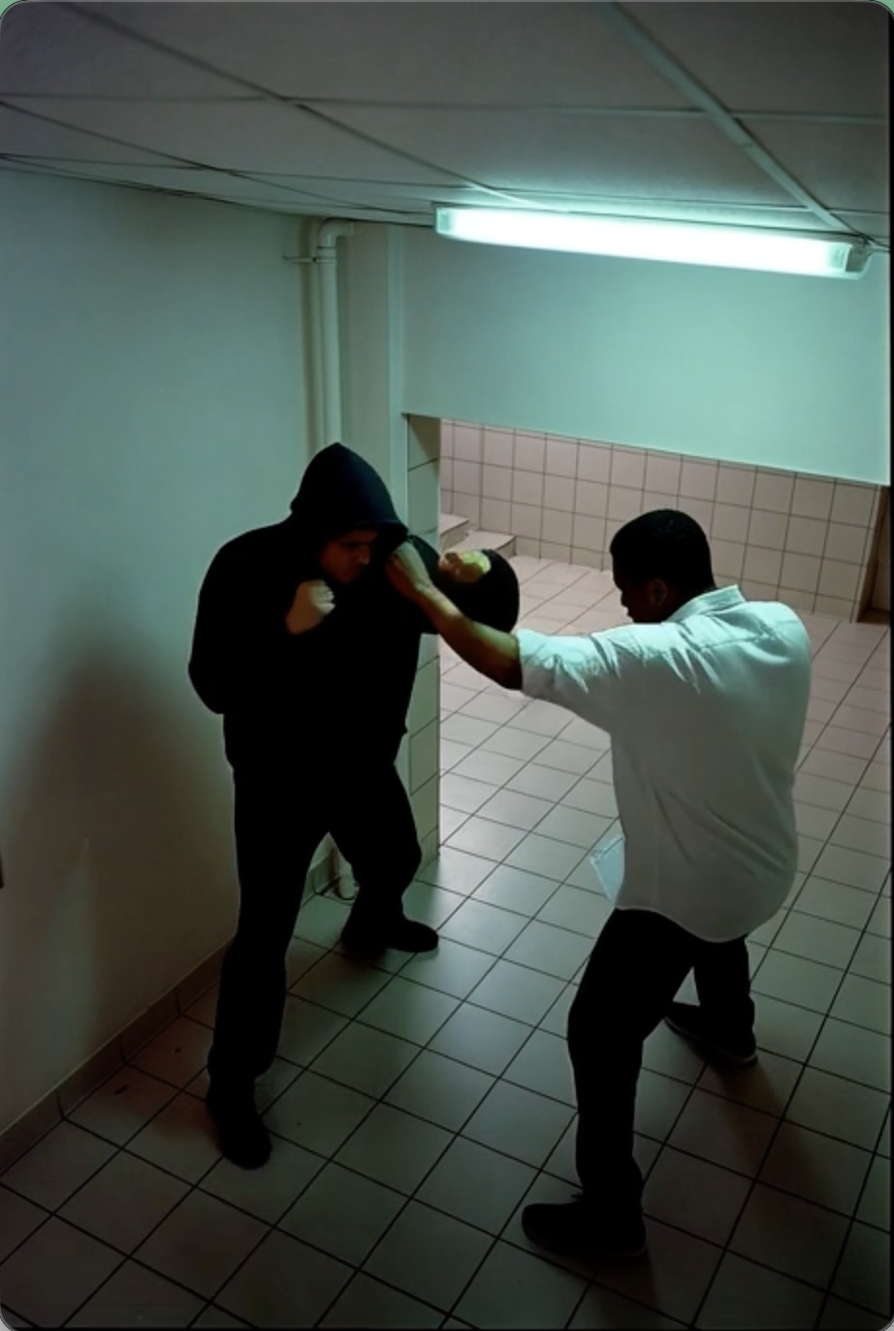Assault: (187, 441, 483, 1172)
Fighting: (384, 509, 811, 1262)
